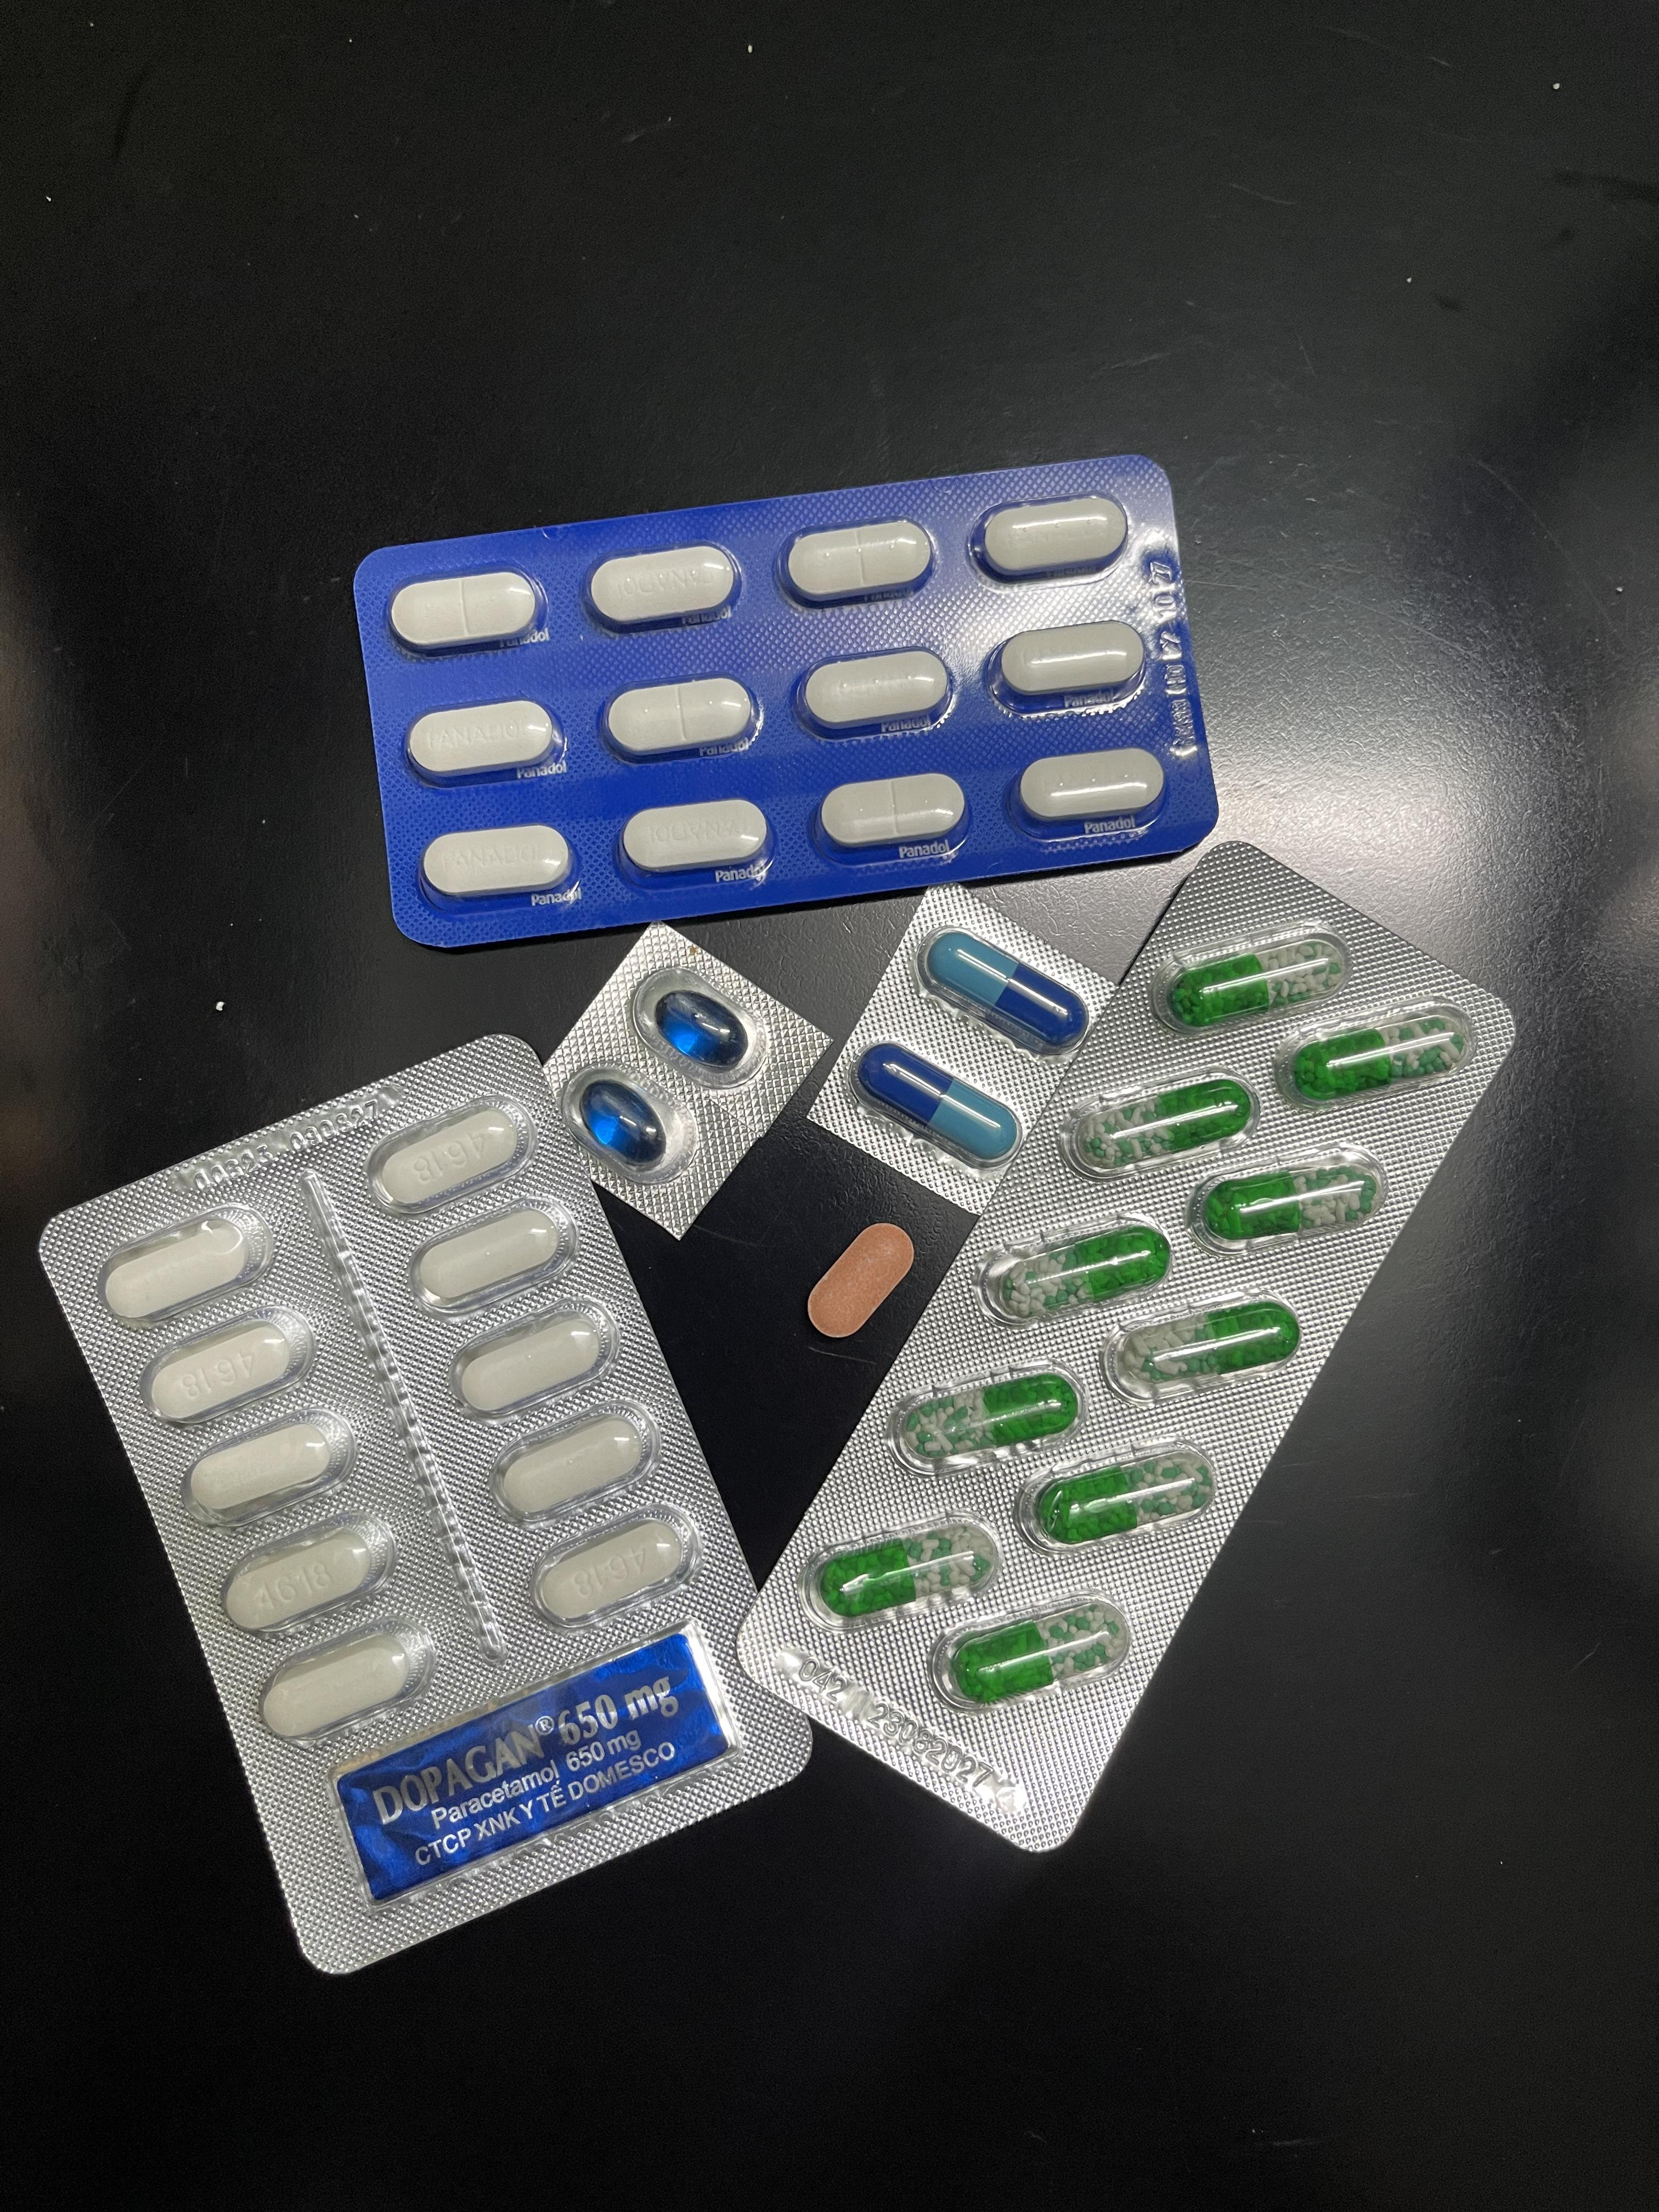Lincomyxin_500mg: (655, 989, 751, 1068), (580, 1080, 667, 1160)
Loratadine_10mg: (807, 1223, 915, 1341)
Paracetamol_350mg: (974, 495, 1134, 583), (586, 543, 741, 631), (782, 519, 938, 606), (800, 651, 957, 737), (605, 678, 760, 763), (406, 700, 563, 784), (1016, 747, 1169, 829), (389, 571, 538, 655), (817, 772, 969, 853), (422, 824, 573, 904), (997, 622, 1148, 702), (622, 798, 772, 878)
Paracetamol_500mg: (216, 1505, 394, 1634), (258, 1615, 436, 1740), (183, 1411, 357, 1536), (141, 1303, 315, 1426), (526, 1507, 694, 1630), (493, 1407, 660, 1526), (105, 1205, 274, 1322), (450, 1303, 617, 1418), (364, 1096, 530, 1211), (408, 1200, 570, 1313)
Paracetamol_650mg: (1082, 1078, 1255, 1172), (908, 1371, 1082, 1461), (1122, 1301, 1298, 1390), (997, 1226, 1169, 1317), (1032, 1460, 1204, 1547), (951, 1609, 1117, 1700), (823, 1529, 988, 1616), (1286, 1015, 1466, 1094), (1166, 946, 1337, 1026), (1208, 1163, 1377, 1238)
pill: (924, 934, 1086, 1050), (857, 1050, 1021, 1165)
